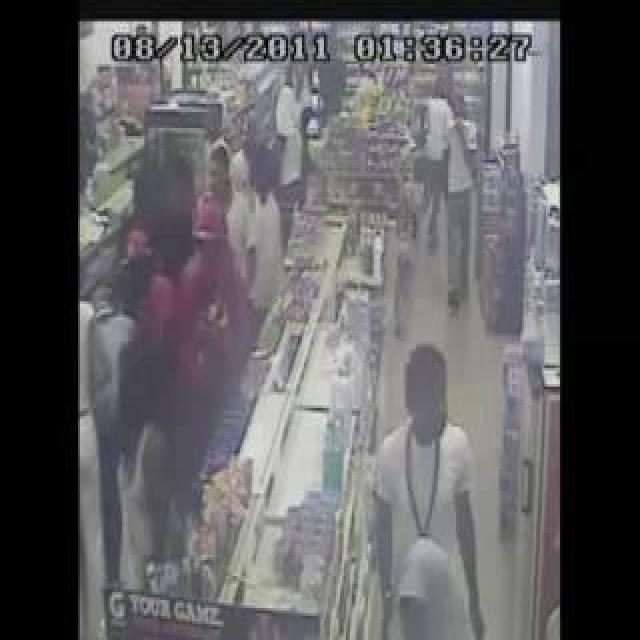thief: (86, 186, 202, 427), (216, 109, 294, 222), (434, 91, 478, 227), (394, 346, 445, 454)
